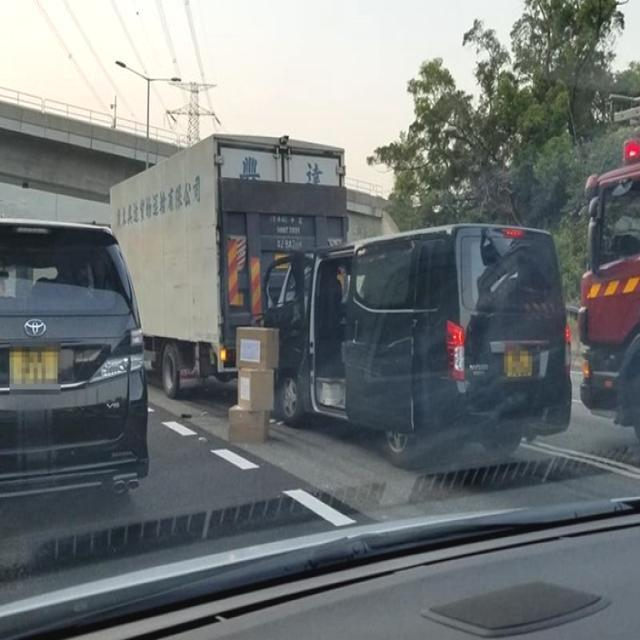accident: (212, 199, 442, 444)
